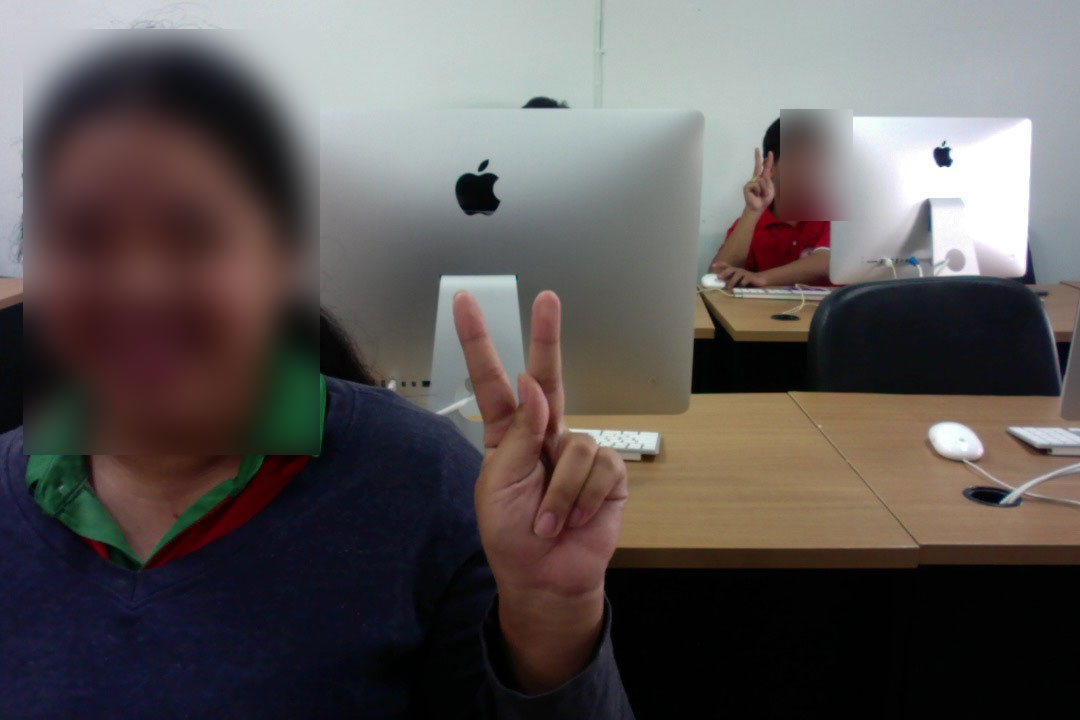ko: (440, 278, 631, 624)
